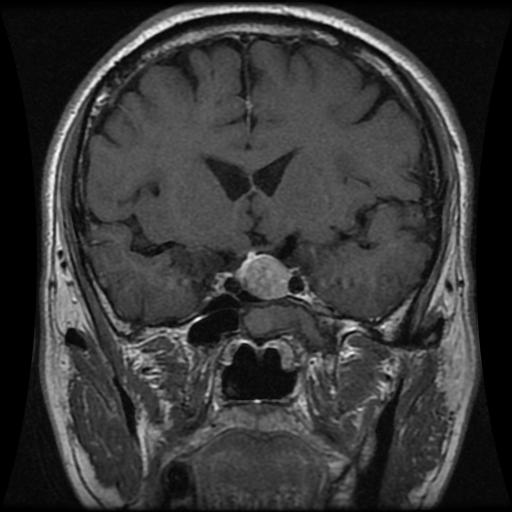Pituirity_tumour: (237, 253, 289, 298)
